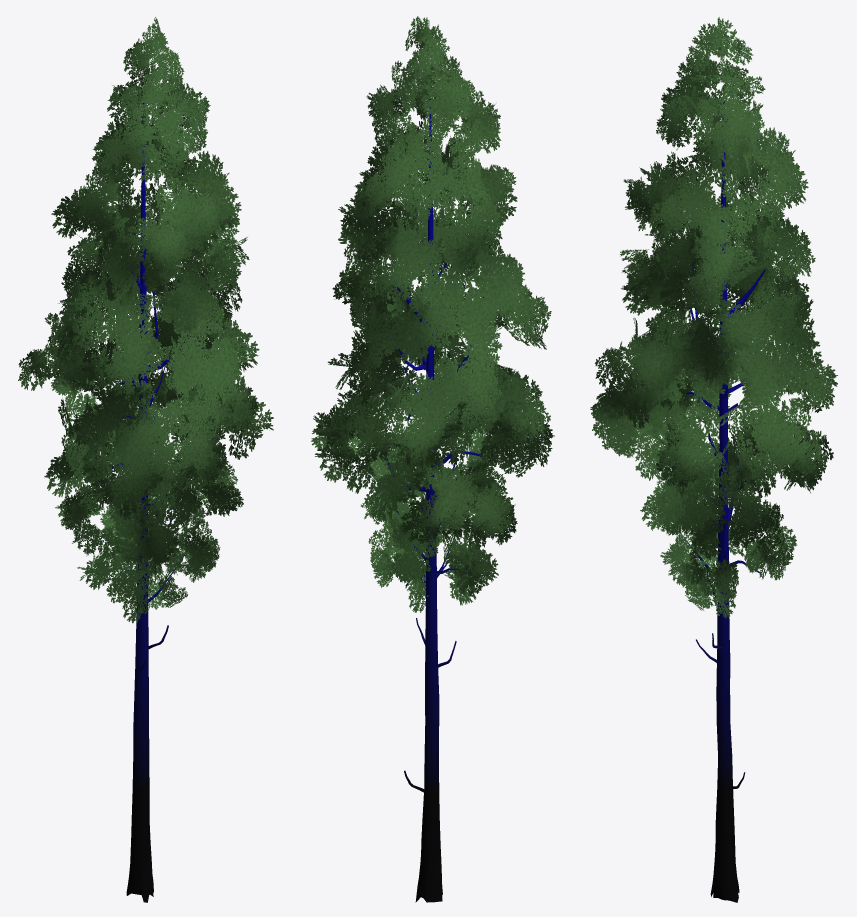
Rendered from CeDarTree_02.fbx.
3 views of the same model, side by side, from view 1: azimuth 30°, elevation 25°; view 2: azimuth 150°, elevation 25°; view 3: azimuth 270°, elevation 25° (orthographic).
Visible parts, largest first — view 1: SM_CedarTree_02.mo; view 2: SM_CedarTree_02.mo; view 3: SM_CedarTree_02.mo.
Part boxes in pixels (box(x1,y1,x2,y2)): SM_CedarTree_02.mo: box(18, 17, 273, 902); SM_CedarTree_02.mo: box(311, 16, 554, 902); SM_CedarTree_02.mo: box(590, 17, 837, 902).
Bounding box in the file's own units: 750 × 3078 × 802.
